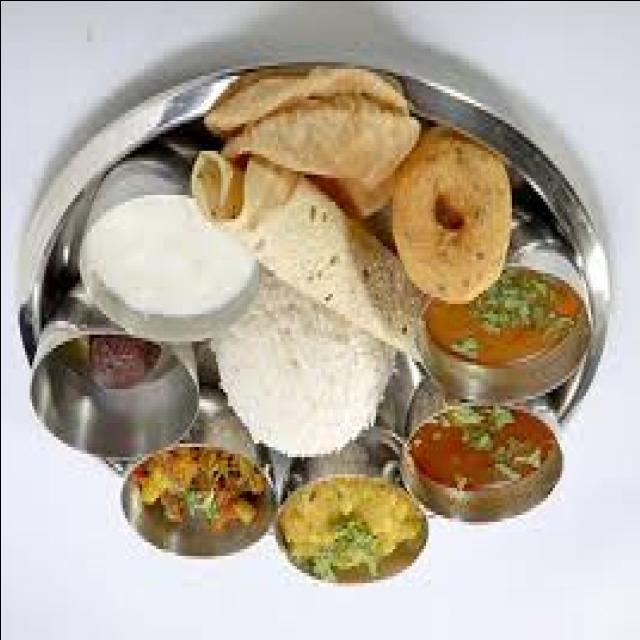curd: (71, 169, 265, 338)
dal: (280, 454, 421, 597)
papad: (240, 130, 411, 364)
rice: (222, 239, 394, 472)
sambar-rasam: (32, 322, 207, 473), (400, 395, 554, 526)
veg-fry: (112, 439, 270, 581)
